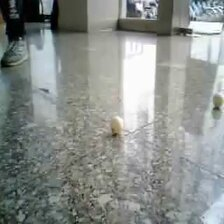w: (109, 115, 124, 134), (211, 93, 224, 108)
